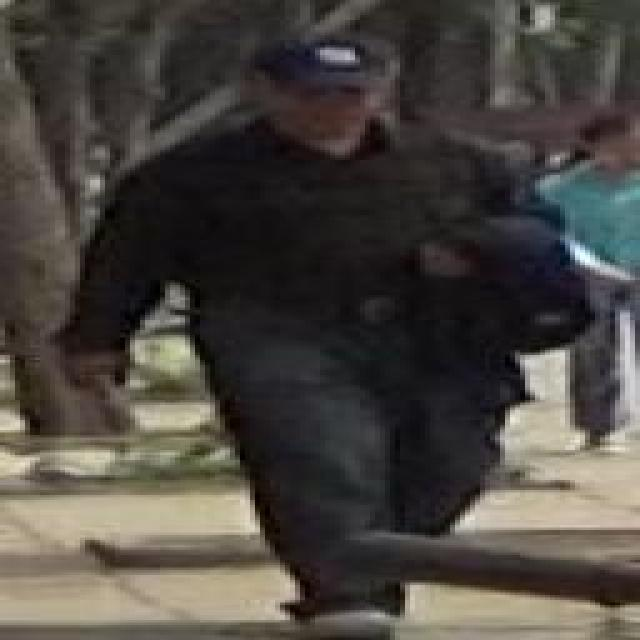adult: (49, 33, 572, 637)
